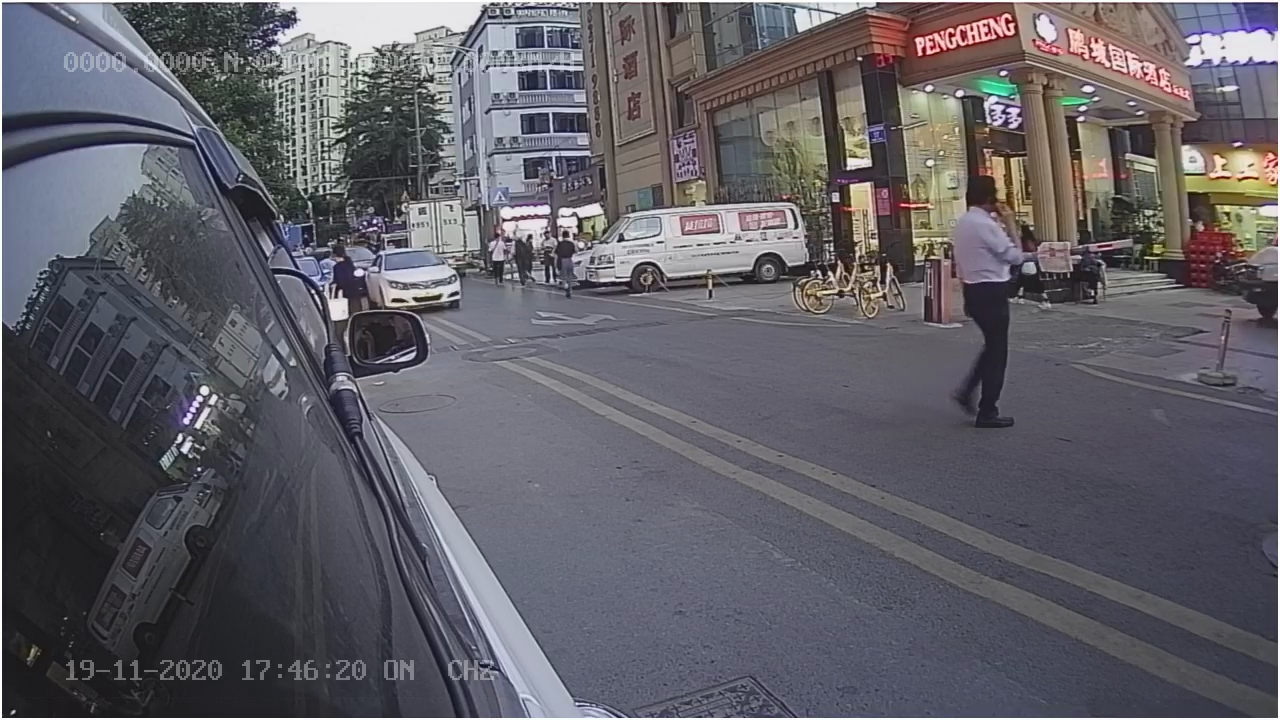person: (939, 179, 1030, 436)
